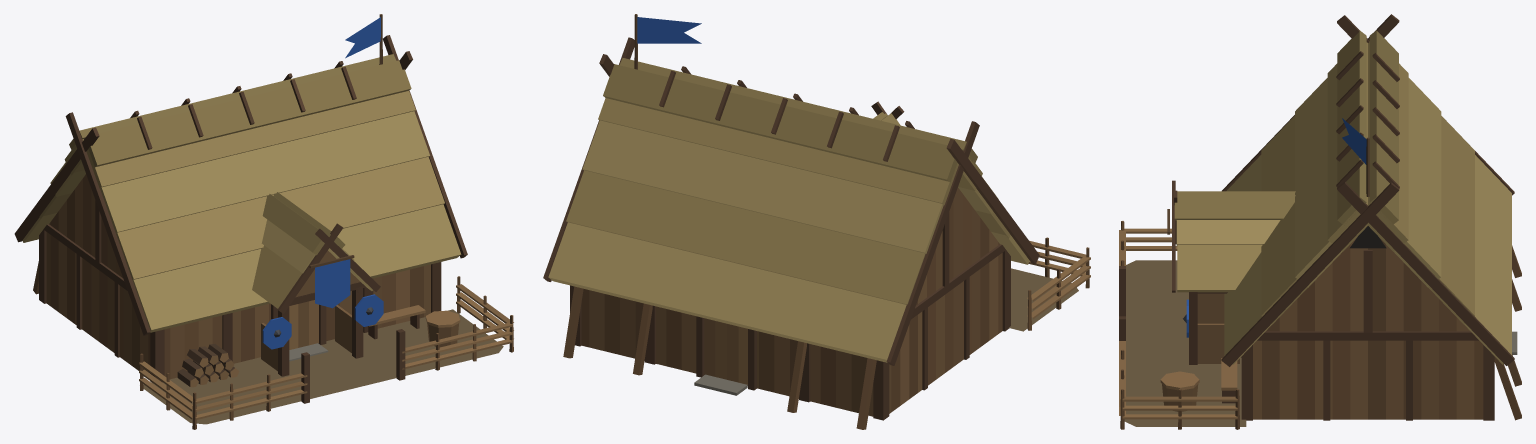
Rendered from hall.glb.
3 views of the same model, side by side, from view 1: azimuth 30°, elevation 25°; view 2: azimuth 150°, elevation 25°; view 3: azimuth 270°, elevation 25° (orthographic). The views are drawn at different scales.
Parts seen in each view (by area): view 1: hall; view 2: hall; view 3: hall.
Part boxes in pixels (x1,y1,x2,y2): hall: (14,14,513,429); hall: (543,14,1090,429); hall: (1119,14,1521,429).
Bounding box in the file's own units: 9.16 × 7.09 × 9.11.
